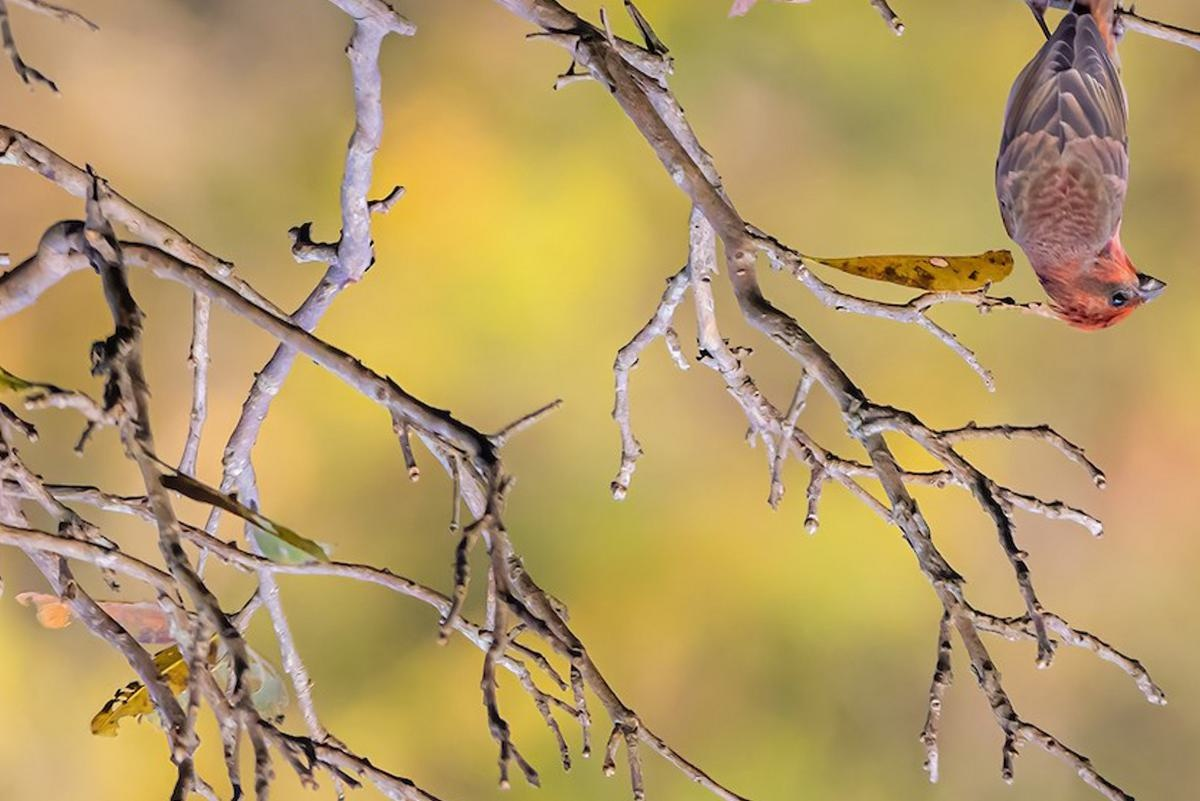rosefinch: (954, 1, 1179, 331)
